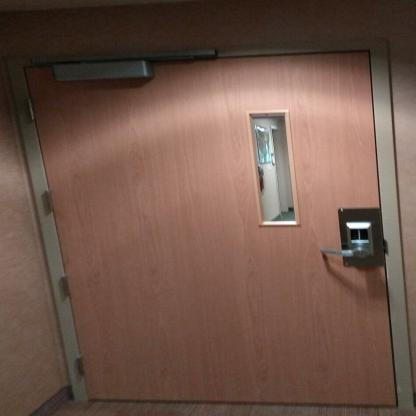door: (8, 51, 386, 402)
hinged: (40, 188, 58, 212), (26, 98, 42, 122), (74, 352, 90, 376), (61, 276, 76, 298)
lever: (316, 246, 375, 259)
